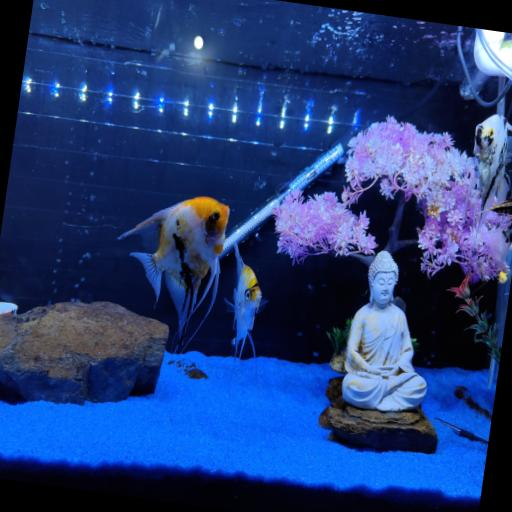Fish: (118, 197, 229, 348), (225, 244, 267, 378), (474, 115, 511, 217), (481, 222, 511, 266)
